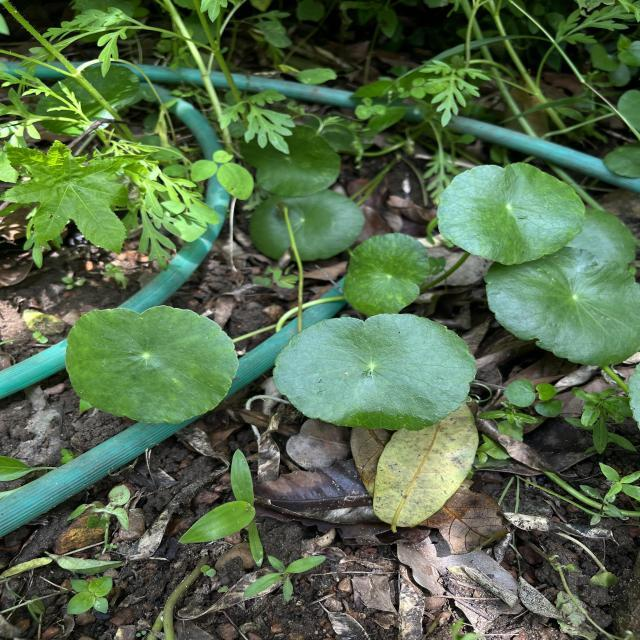Bacopa monnieri: (270, 311, 480, 433), (60, 303, 242, 426), (482, 243, 640, 367), (434, 160, 588, 266), (249, 185, 367, 262), (342, 230, 432, 318)
